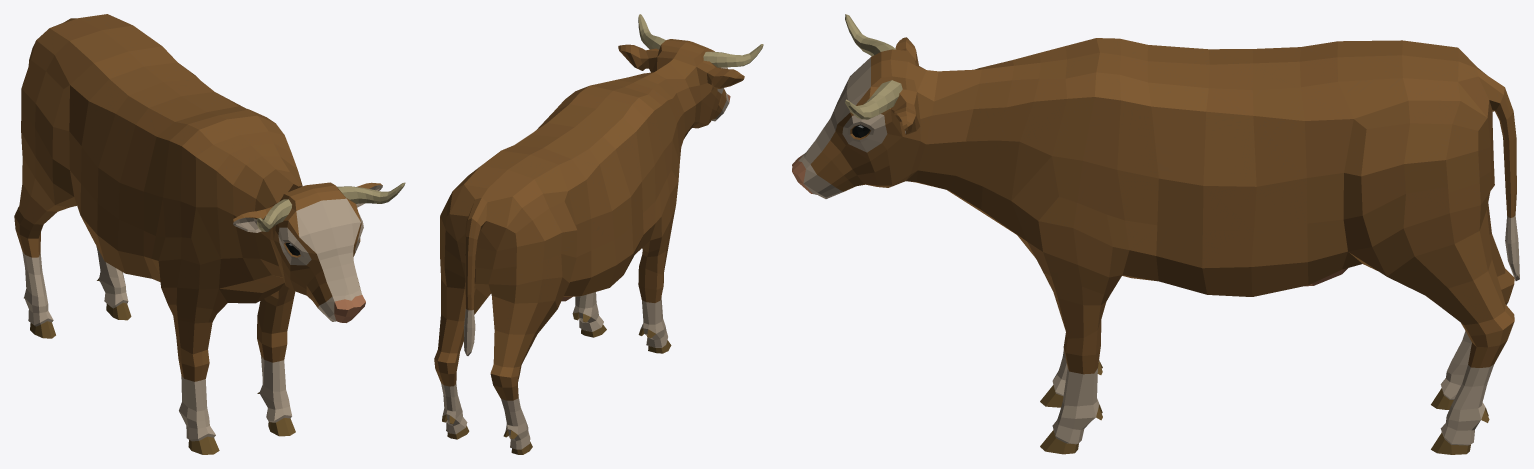
File: Cow.glb
The picture shows the model from 3 angles, left to right: view 1: azimuth 30°, elevation 25°; view 2: azimuth 150°, elevation 25°; view 3: azimuth 270°, elevation 25°; orthographic projection. The views are drawn at different scales.
Parts seen in each view (by area): view 1: Cow_Cube; view 2: Cow_Cube; view 3: Cow_Cube.
Part boxes in pixels (x1=…): Cow_Cube: x1=14, y1=14, x2=405, y2=454; Cow_Cube: x1=434, y1=14, x2=763, y2=454; Cow_Cube: x1=792, y1=14, x2=1519, y2=454.
Size of the model in its own units: 2.31 by 4.59 by 8.07.
1 material, 1 textured.
